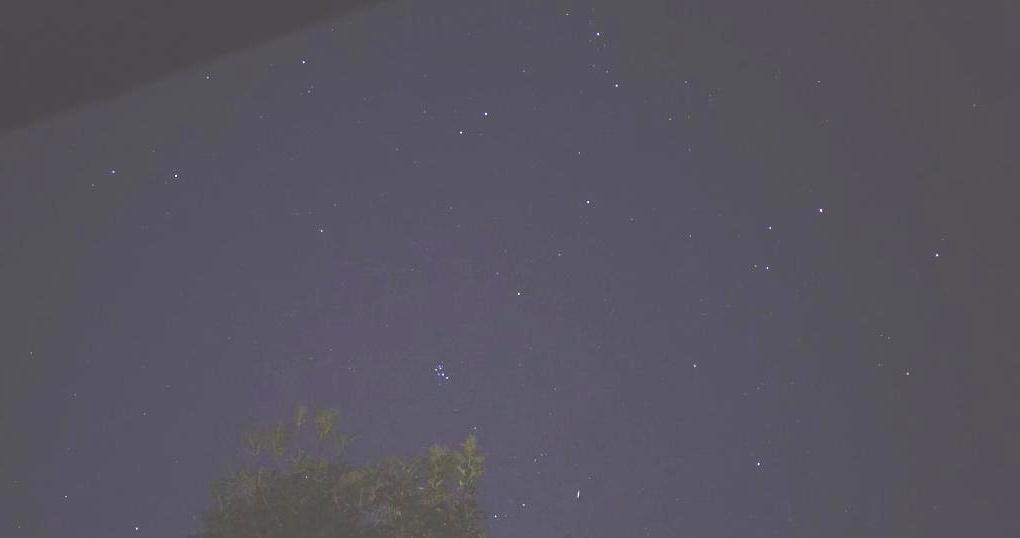meteorite: (563, 487, 593, 501)
